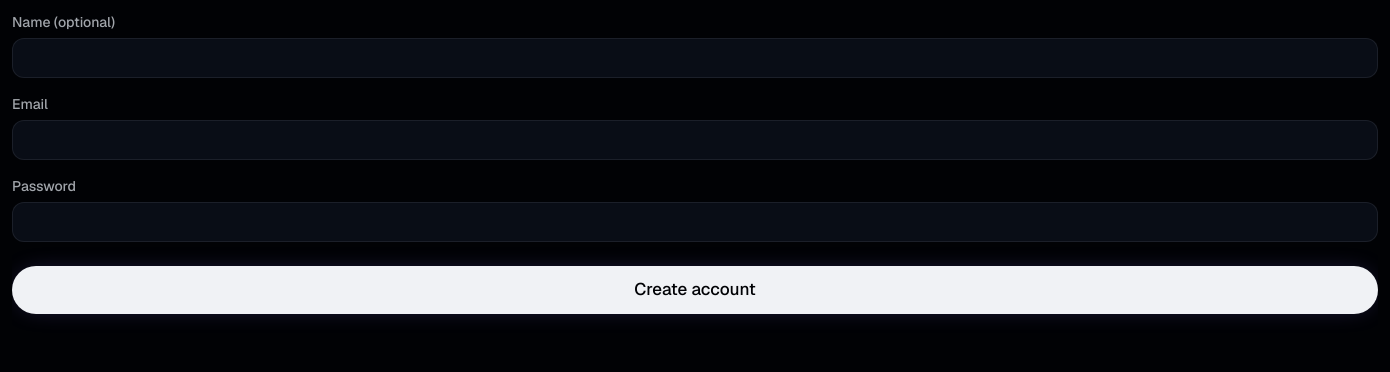
Test: RegisterForm › shows the server's error message when registration fails
Type "a@b.com" into the field labelled "Email" at (695, 140), box [12,120,1378,160]
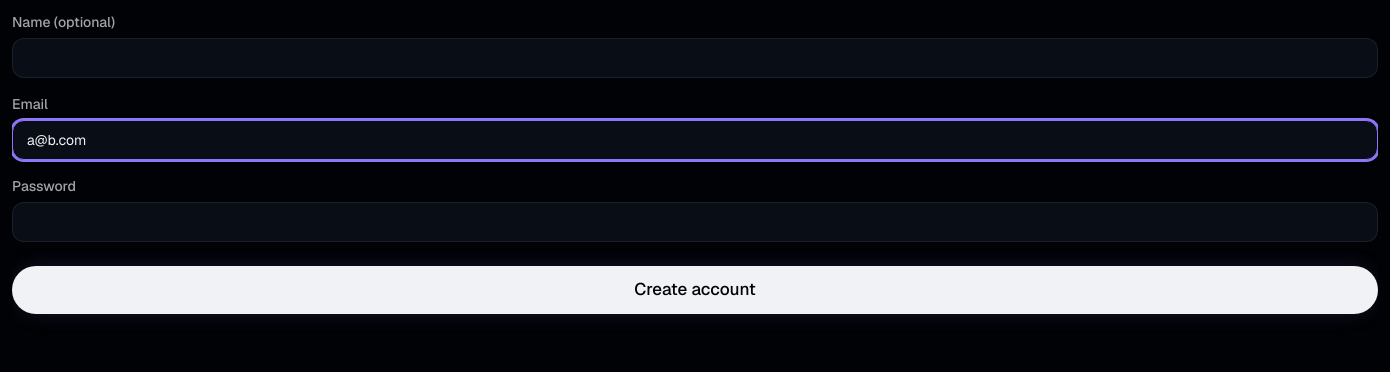
Type "correct-password-123" into the password field labelled "Password" at (695, 222), box [12,202,1378,242]
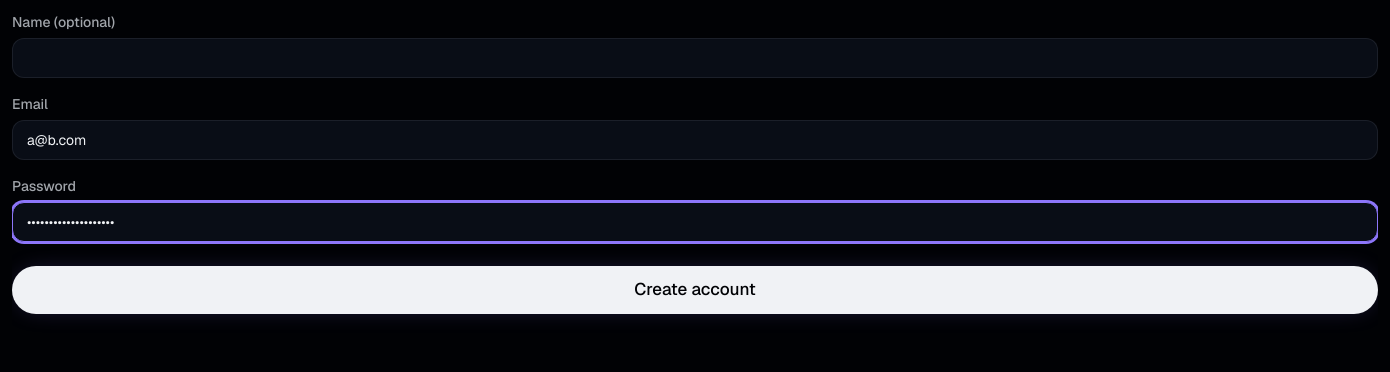
Click the button "Create account" at (695, 290), box [12,266,1378,314]
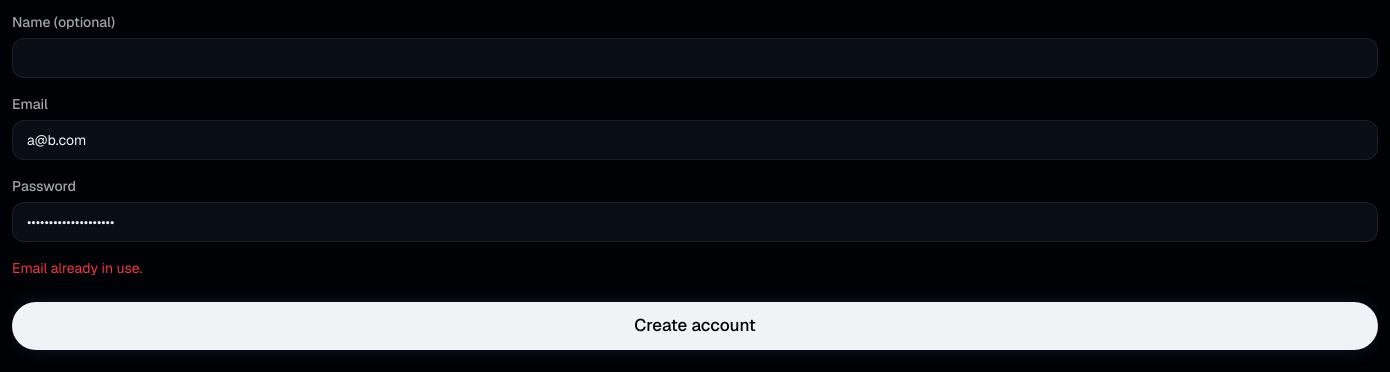
Expected: the message reads "Email already in use.", [12,259,142,277]
